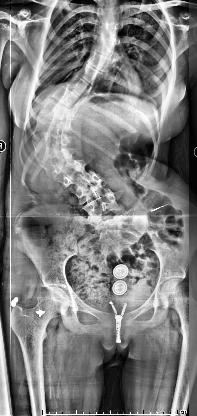Vertebrae: (80, 191, 122, 222), (31, 138, 75, 164), (30, 107, 66, 136), (42, 146, 74, 176), (55, 157, 87, 187), (76, 60, 110, 88), (70, 170, 104, 198), (31, 128, 71, 150), (51, 85, 84, 111), (84, 48, 116, 74), (42, 96, 74, 122), (63, 75, 95, 99), (91, 33, 122, 57), (98, 7, 126, 29), (98, 22, 125, 44)
